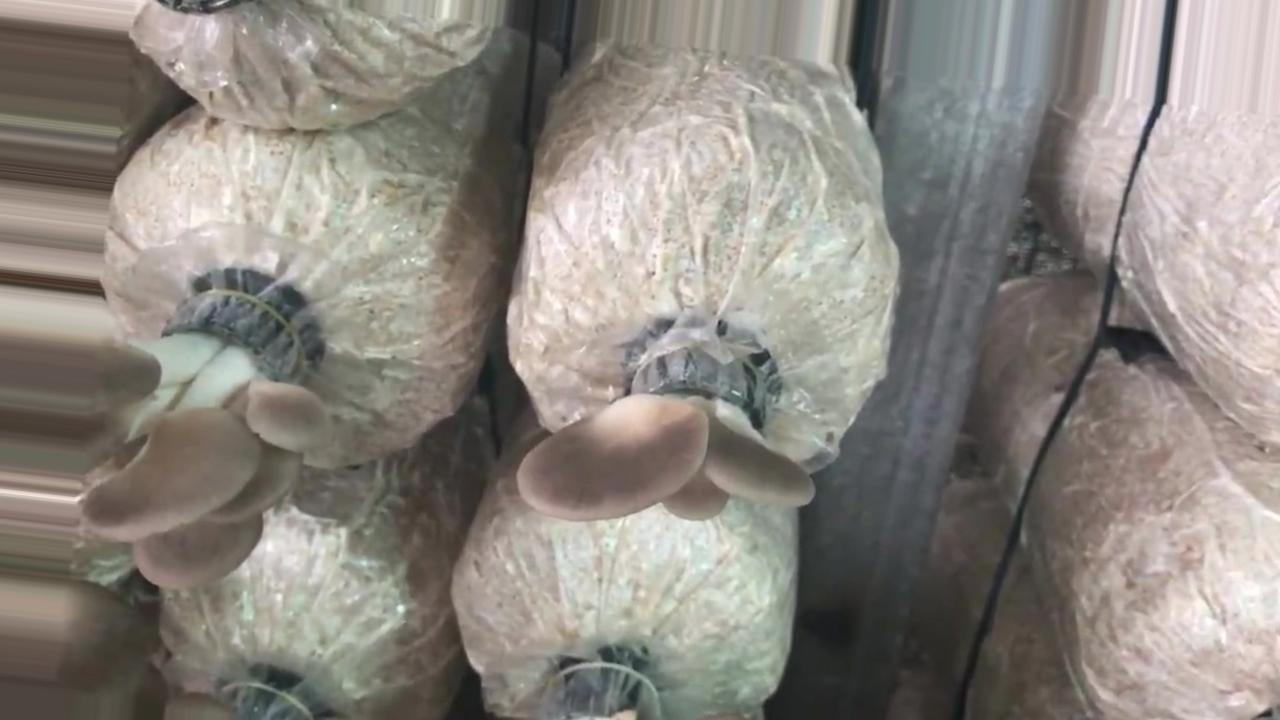nam: (1, 284, 318, 587), (517, 341, 817, 532)
